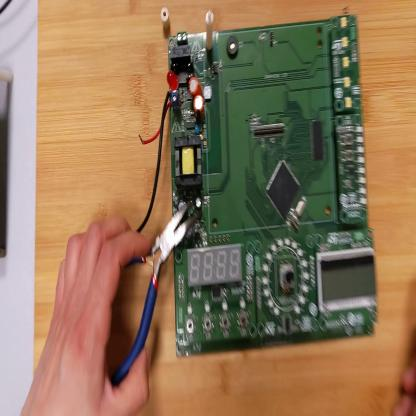hand: (29, 210, 156, 415), (395, 357, 416, 415)
low voltage board: (138, 12, 383, 364)
pliers: (110, 201, 205, 395)
working area: (33, 1, 416, 415)
